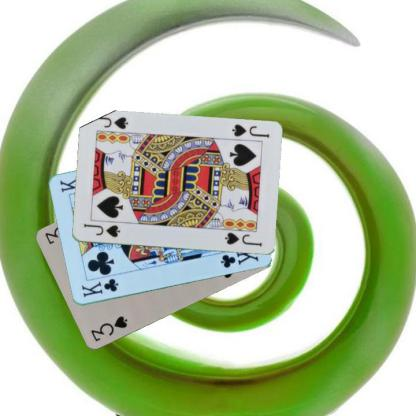3s: (88, 314, 129, 343)
Js: (229, 122, 270, 140), (81, 221, 121, 239)
Kc: (78, 276, 119, 299)
